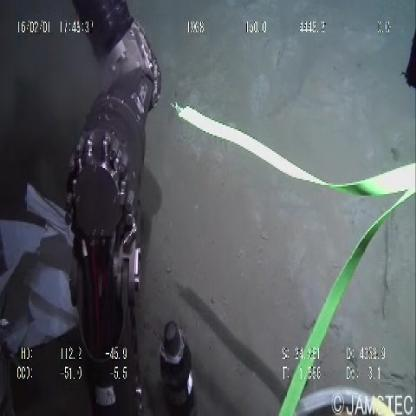Rov: (60, 1, 195, 412)
Rác: (1, 178, 74, 346)
